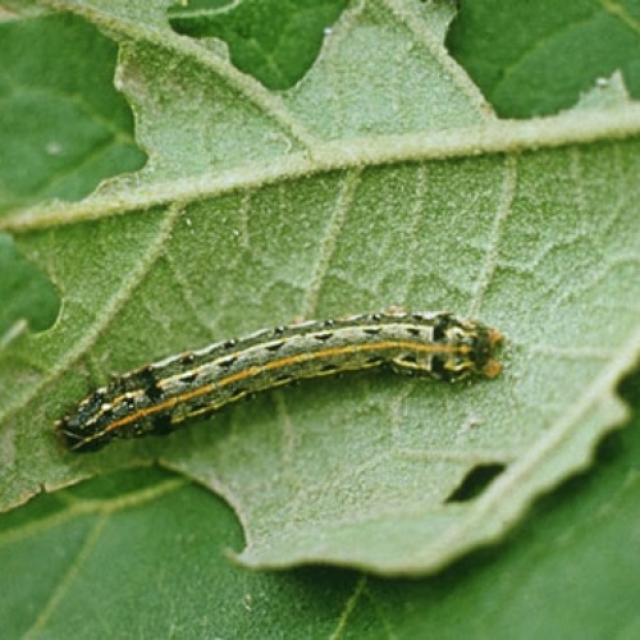armyworm: (52, 303, 506, 453)
